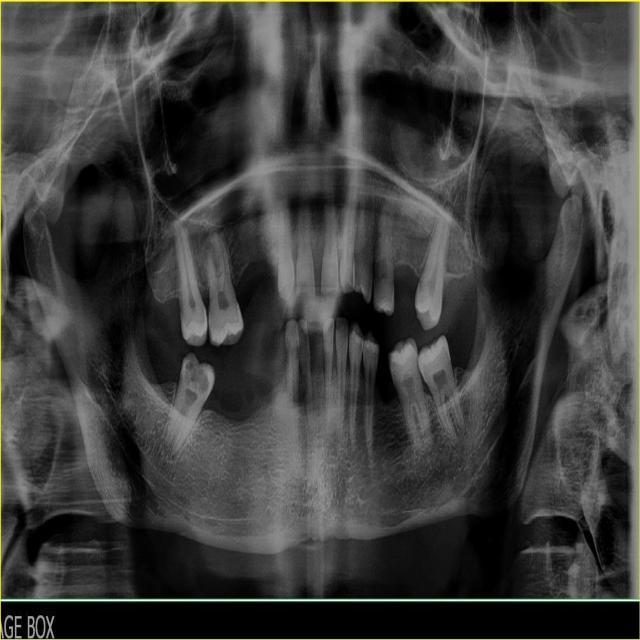Sterngold Implant: (183, 351, 211, 396), (286, 335, 292, 366)
